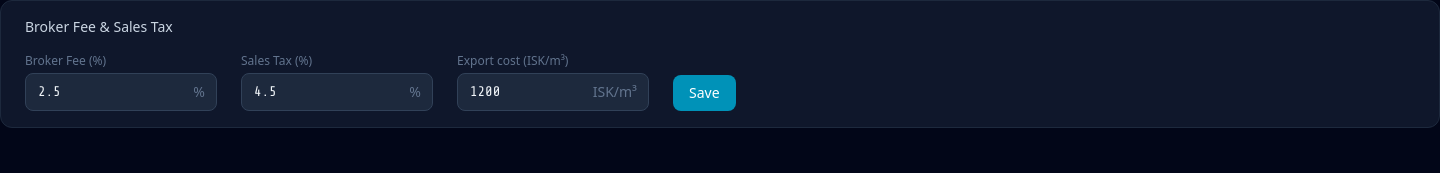
Test: FeesConfig save error › shows the failed message on any other error
What coordinates should you click on to do the following:
click the button "Save"
I would click on:
 (704, 93)
Its box is [673,75,736,111].
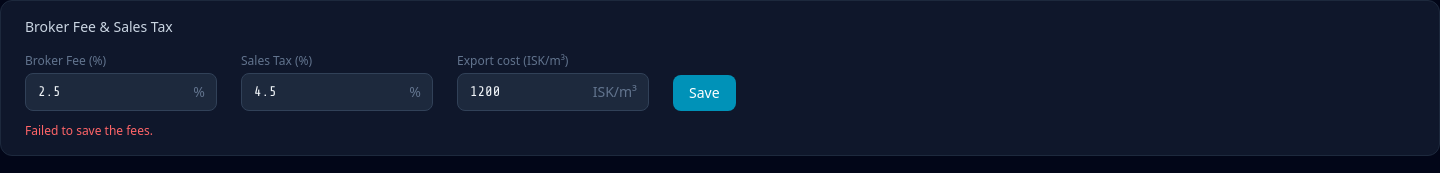
Result: the message with test id "fees-save-error" reads "Failed to save the fees." at [25,122,153,139]
